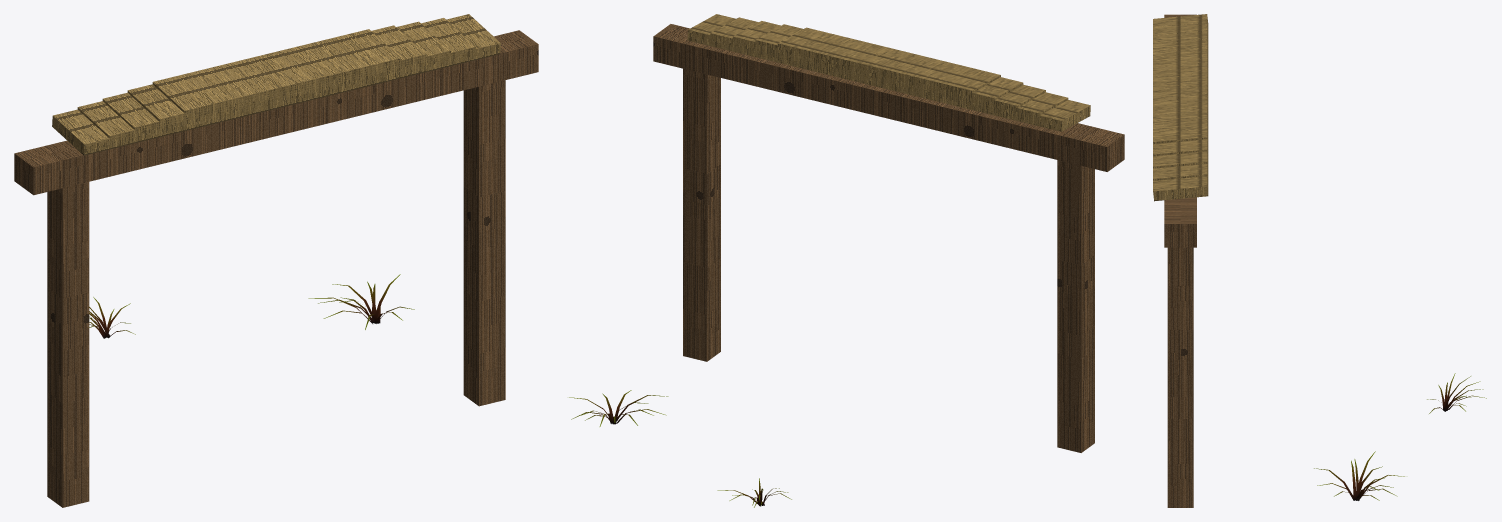
File: village_gate_01.glb
3 renders of one model, left to right at view 1: azimuth 30°, elevation 25°; view 2: azimuth 150°, elevation 25°; view 3: azimuth 270°, elevation 25°, orthographic. The views are drawn at different scales.
Visible parts, largest first — view 1: village_gate_01, village_gate_01_veg_01_grass_tuft_b; view 2: village_gate_01, village_gate_01_veg_01_grass_tuft_b; view 3: village_gate_01, village_gate_01_veg_01_grass_tuft_b, village_gate_01_veg_00_grass_tuft_a.
Boxes of the visible parts, x1=… form: village_gate_01: x1=14, y1=14, x2=538, y2=507; village_gate_01_veg_01_grass_tuft_b: x1=308, y1=274, x2=414, y2=329; village_gate_01: x1=653, y1=14, x2=1124, y2=452; village_gate_01_veg_01_grass_tuft_b: x1=569, y1=390, x2=668, y2=426; village_gate_01: x1=1153, y1=14, x2=1208, y2=507; village_gate_01_veg_01_grass_tuft_b: x1=1314, y1=451, x2=1404, y2=500; village_gate_01_veg_00_grass_tuft_a: x1=1427, y1=373, x2=1486, y2=413.
Bounding box in the file's own units: 4.55 × 3.28 × 3.08.
Materials: 4 (4 with a texture image).
